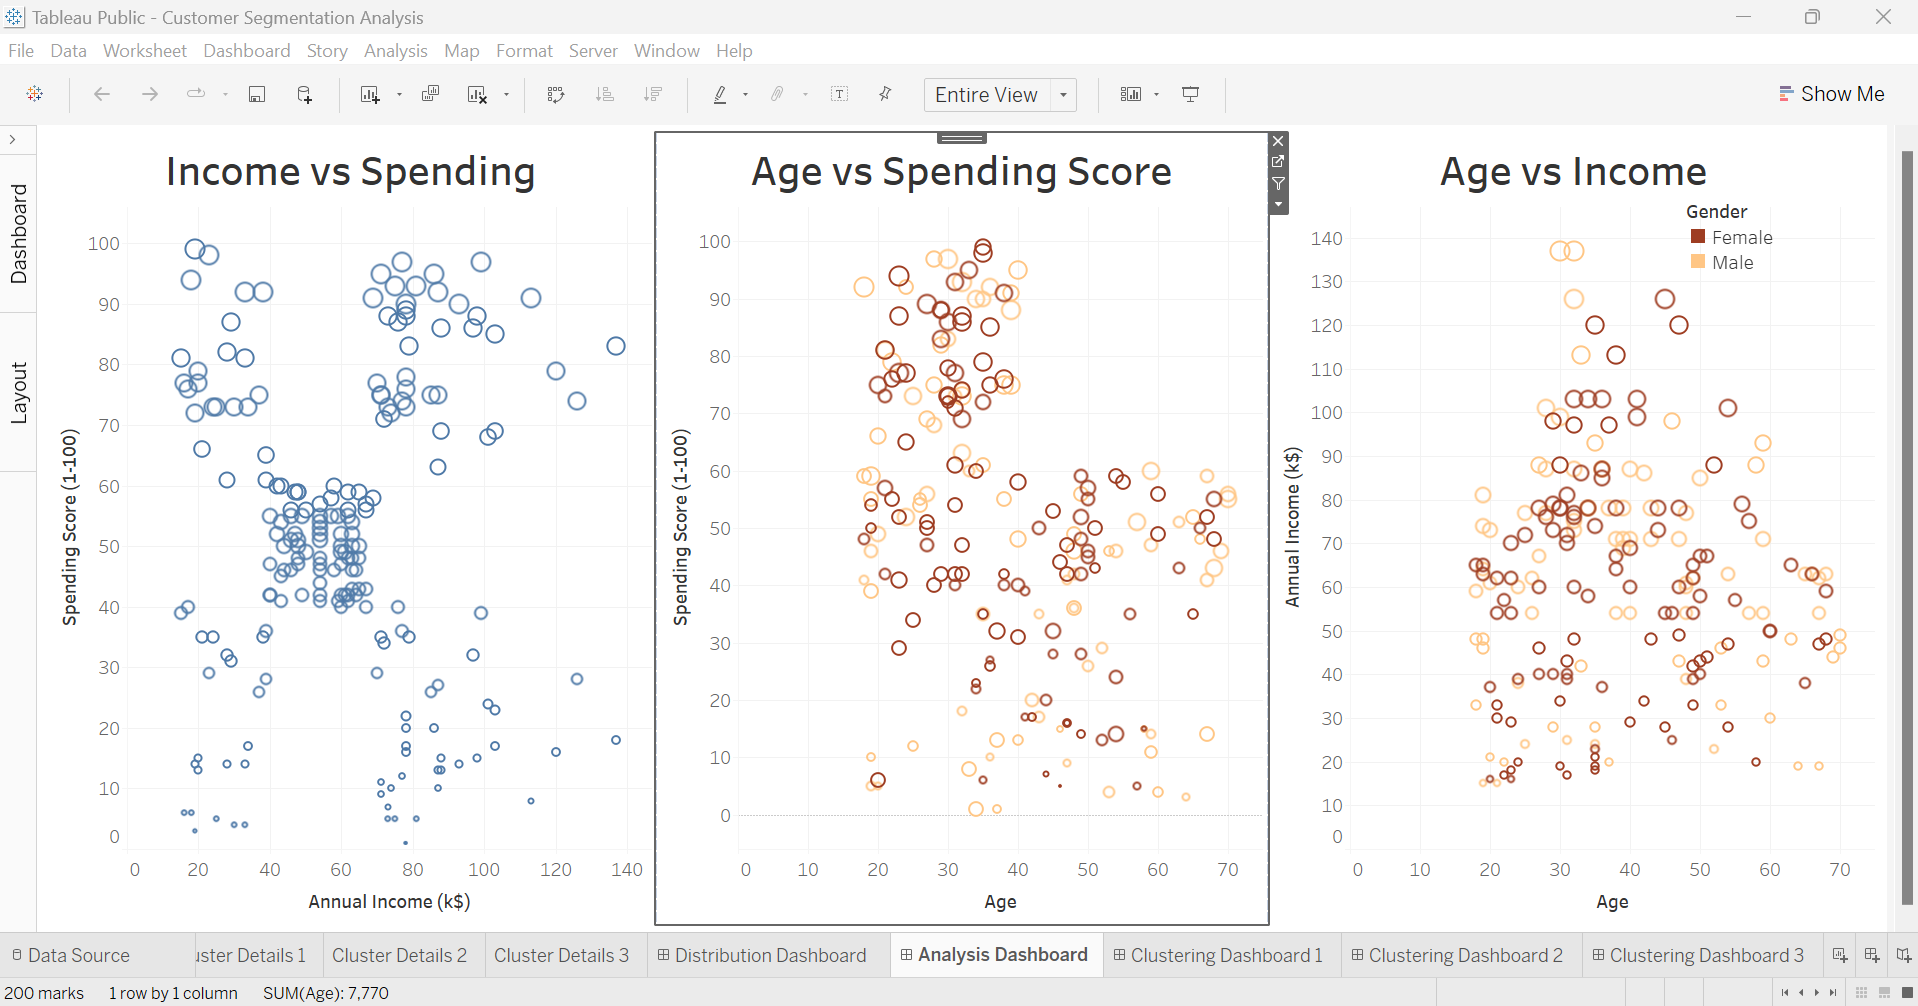

Layout of this report page (visuals, bound fields, positions):
{"tool":"tableau","page":{"name":"Analysis Dashboard ","canvas":[1000,1000],"units":"permille","ordinal":0},"visuals":[{"type":"worksheet","title":"Income vs Spending","mark":"Automatic","rows":["Spending Score (1-100)"],"cols":["Annual Income (k$)"],"box":[4.3,9.9,330.4,980.2]},{"type":"worksheet","title":"Age vs Spending","mark":"Automatic","rows":["Spending Score (1-100)"],"cols":["Age"],"box":[334.7,9.9,330.5,980.2]},{"type":"worksheet","title":"Age vs Income","mark":"Automatic","rows":["Annual Income (k$)"],"cols":["Age"],"box":[665.2,9.9,330.5,980.2]},{"type":"legend","title":"Age vs Spending","param":"[federated.03849fk1oqn5g5192y5811f0itua].[none:Gender:nk]","box":[889,85.6,99.8,104.2]}]}

Visuals, with their boxes on the dashboard's canvas, which has no fixed pixel size, in thousandths of its width and height (x1, y1, x2, y2). These are canvas units, not pixel positions in the 1918x1006 screenshot, which may show the page scaled, cropped or inside an application window:
"Income vs Spending" worksheet: Rect(4, 10, 335, 990)
"Age vs Spending" worksheet: Rect(335, 10, 665, 990)
"Age vs Income" worksheet: Rect(665, 10, 996, 990)
"Age vs Spending" legend: Rect(889, 86, 989, 190)
